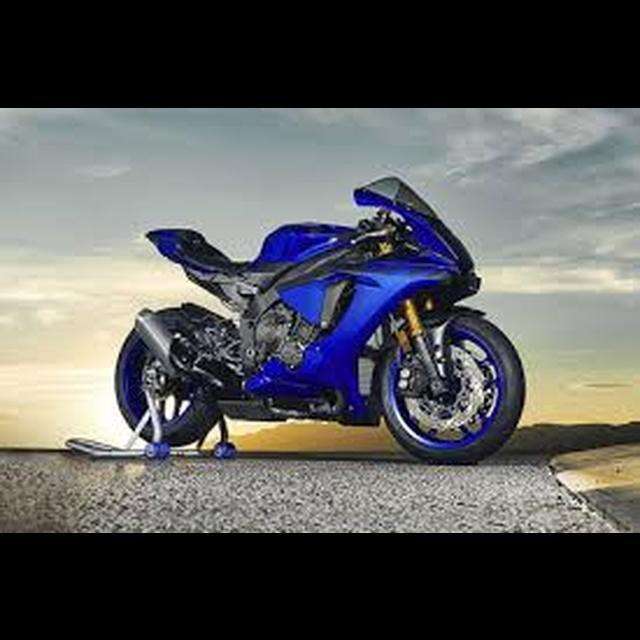motorcycle: (113, 173, 529, 469)
